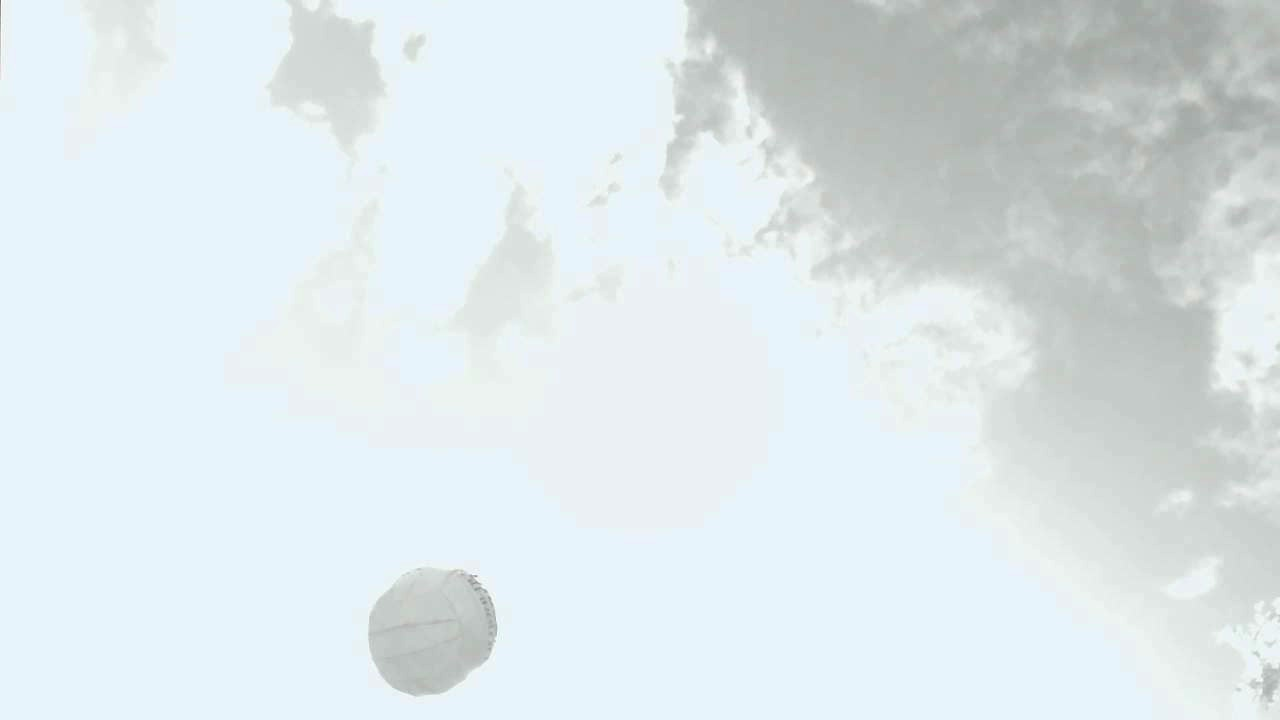Football-Spotter: (369, 567, 496, 695)
